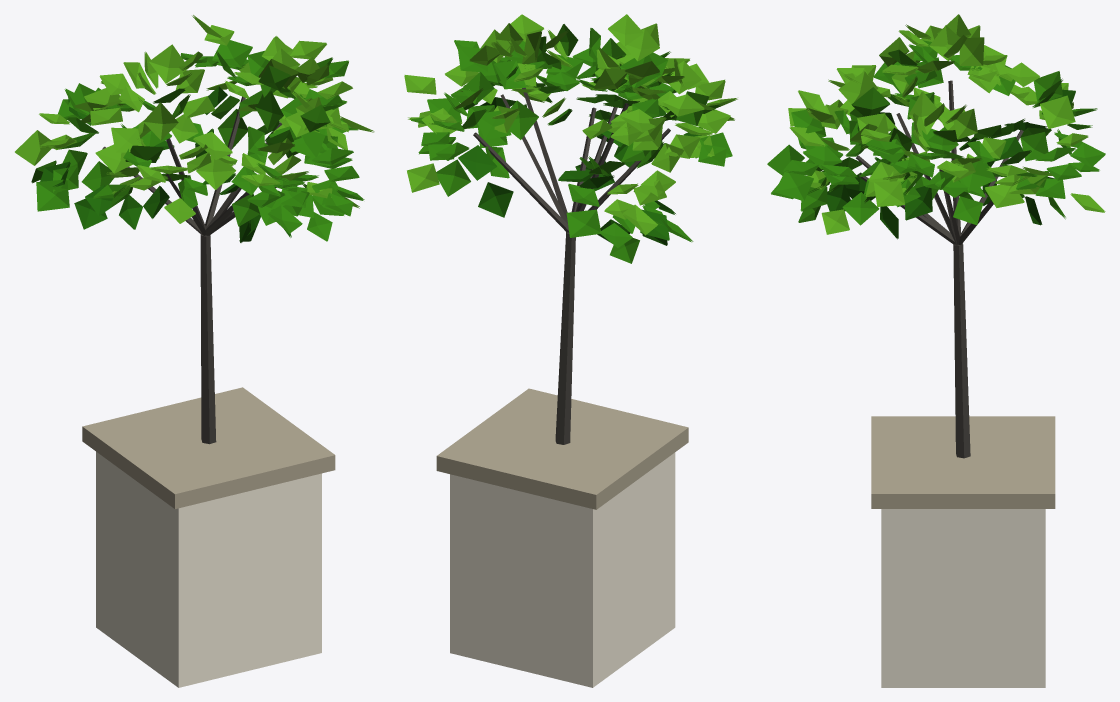
The model's file is PV_ChauCayLon.fbx.
3 renders of one model, left to right at view 1: azimuth 30°, elevation 25°; view 2: azimuth 150°, elevation 25°; view 3: azimuth 270°, elevation 25°, orthographic.
Parts seen in each view (by area): view 1: PV_ChauCayLon_LOD0; view 2: PV_ChauCayLon_LOD0; view 3: PV_ChauCayLon_LOD0.
Boxes of the visible parts, <box> form: PV_ChauCayLon_LOD0: <box>15,15,374,687</box>; PV_ChauCayLon_LOD0: <box>404,14,737,687</box>; PV_ChauCayLon_LOD0: <box>767,14,1105,687</box>.
Size of the model in its own units: 1.01 by 2.05 by 1.03.
